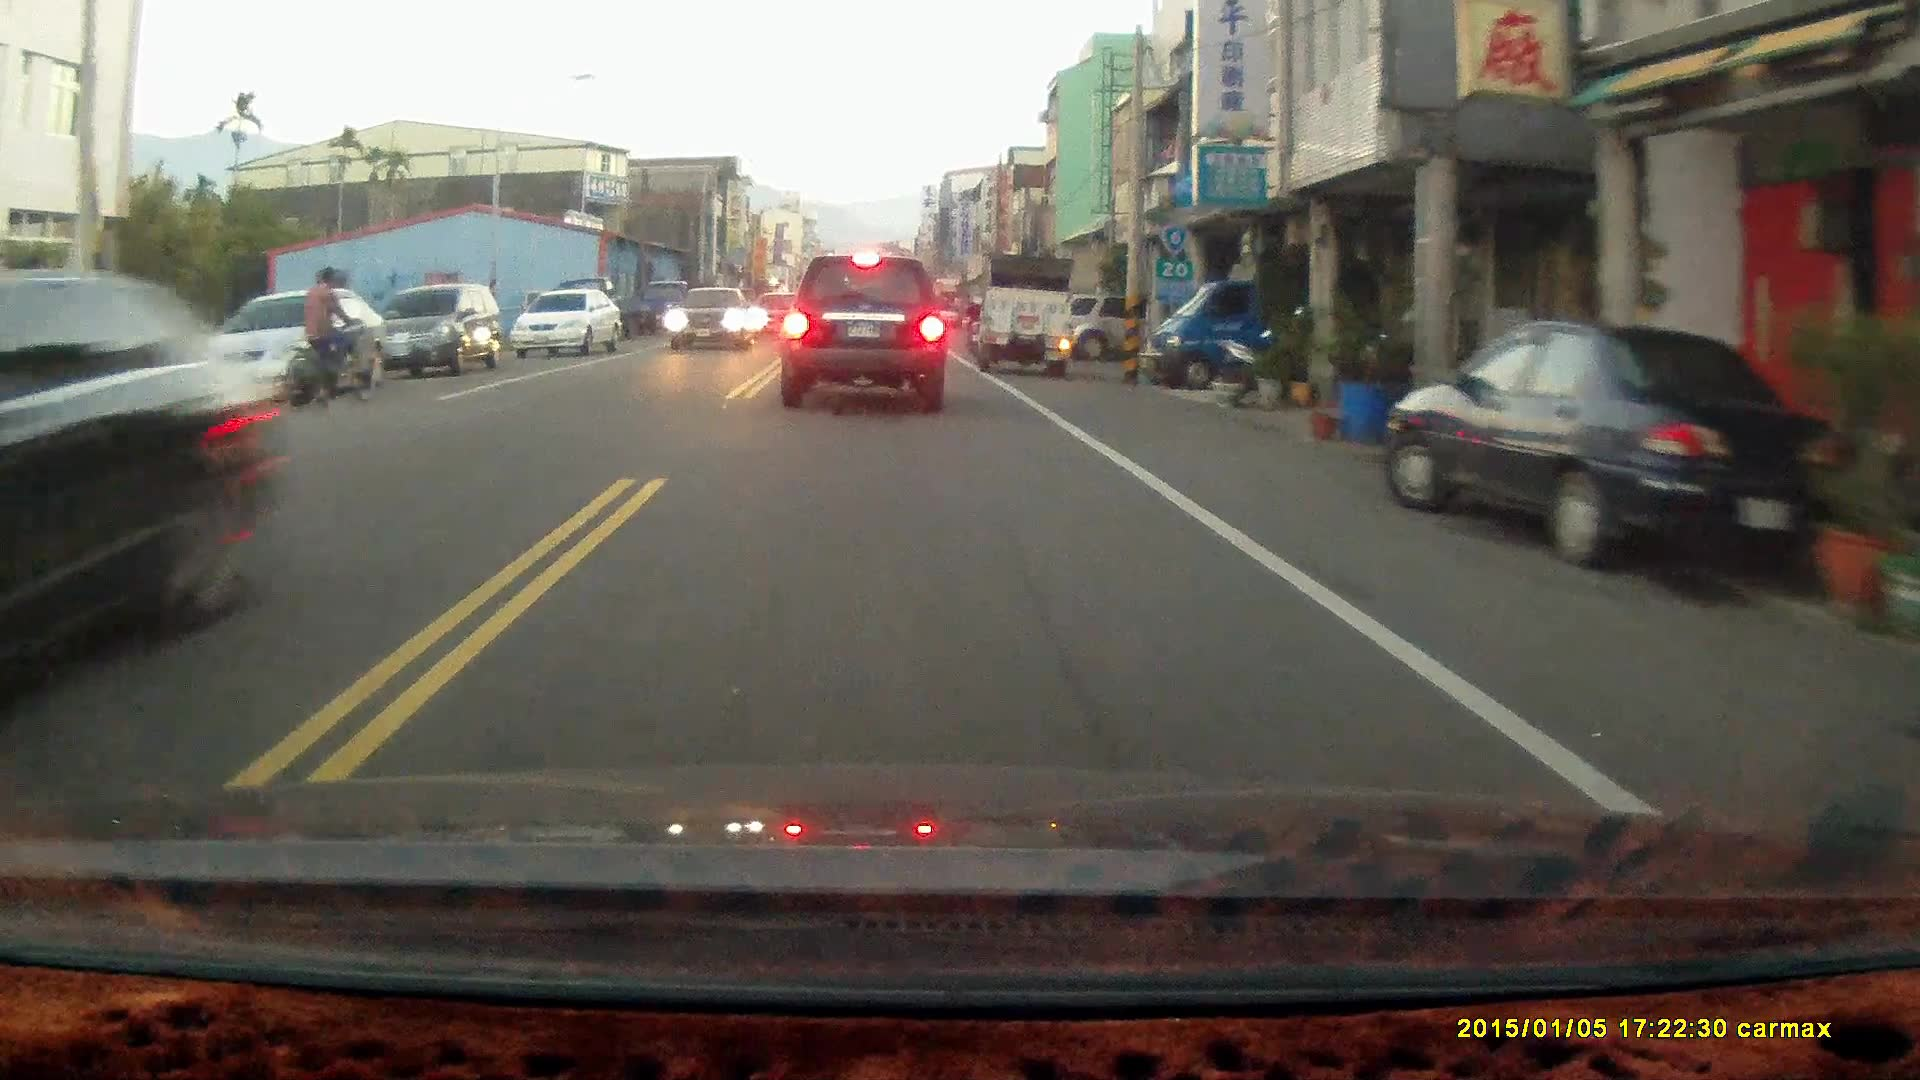rider: (279, 259, 385, 416), (960, 293, 993, 357)
vehicle: (1, 269, 287, 726), (1388, 320, 1844, 574), (781, 250, 949, 409), (196, 293, 396, 415), (1141, 252, 1305, 391), (366, 282, 509, 381), (976, 256, 1077, 377), (511, 288, 626, 361), (675, 287, 757, 350), (634, 279, 703, 341)
